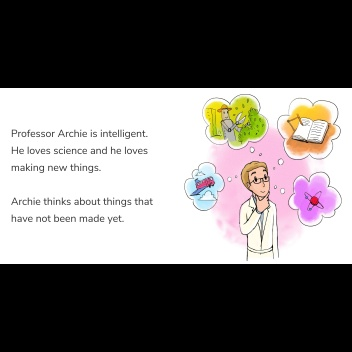latin: (10, 125, 148, 140), (9, 194, 155, 207), (10, 143, 148, 156), (9, 210, 127, 224), (10, 161, 102, 173)
